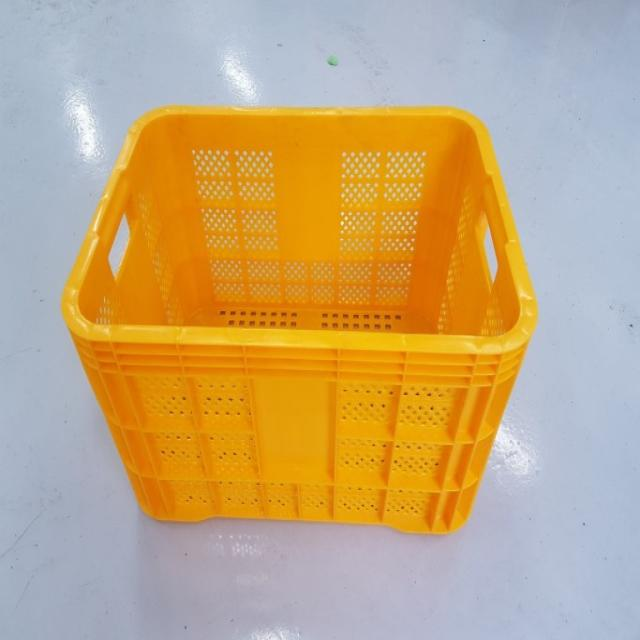basket: (61, 106, 540, 534)
